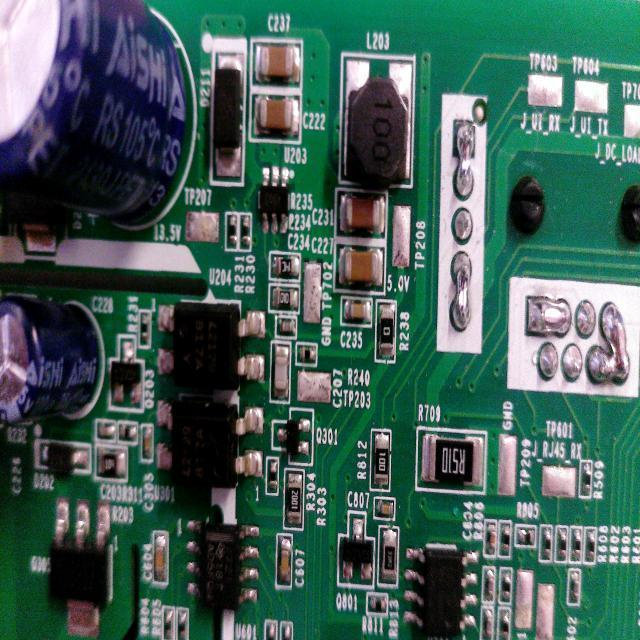Soldering shorted: (587, 284, 633, 396), (524, 282, 574, 342), (450, 247, 480, 336), (454, 122, 476, 205)
